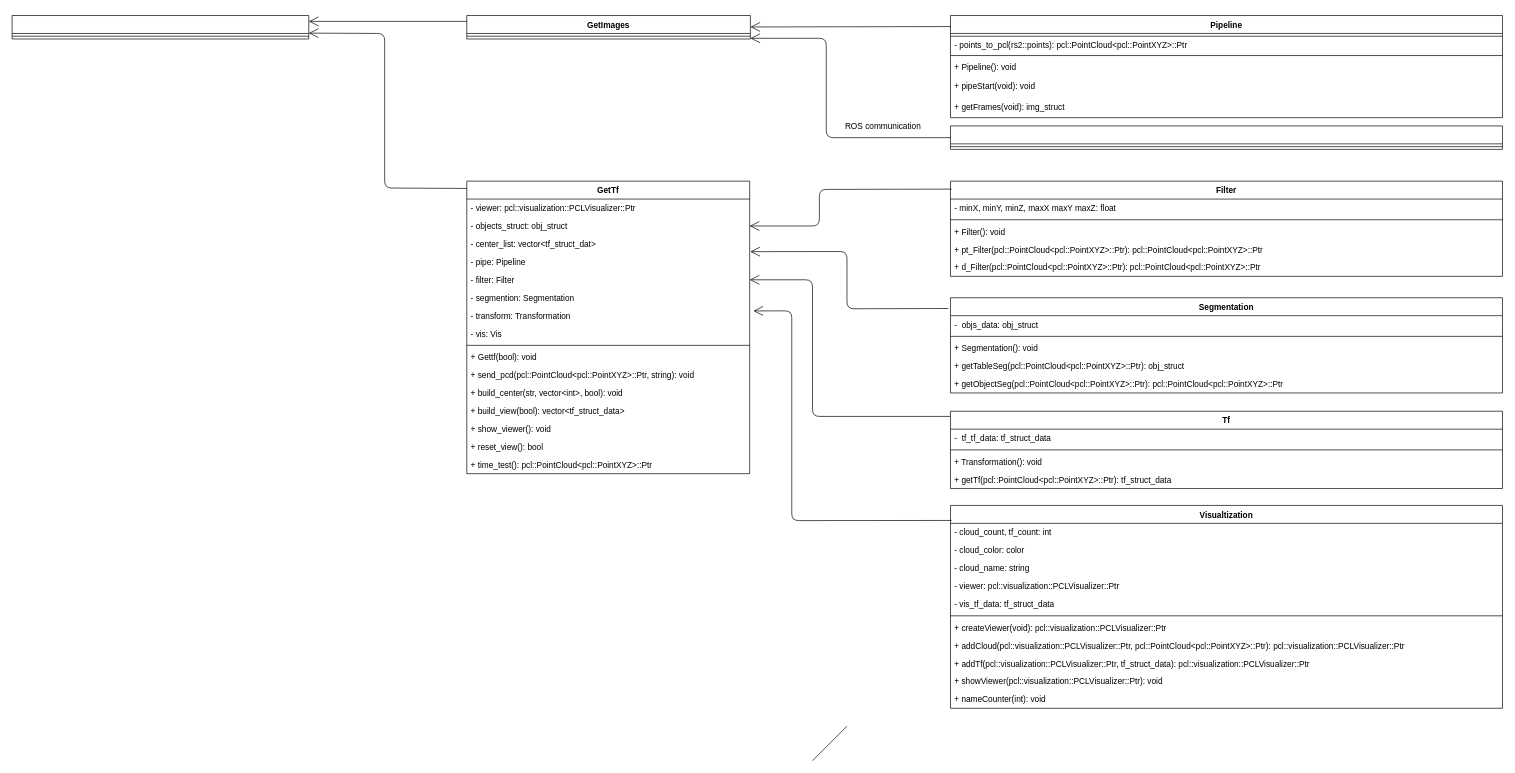
The diagram is 1515 pixels wide and 773 high, and some of its shapes have lost their labels. The centre of each missing label's shape, as x and y in pixels:
"Main" belongs at [160,27].
"YOLO" belongs at [1226,137].
